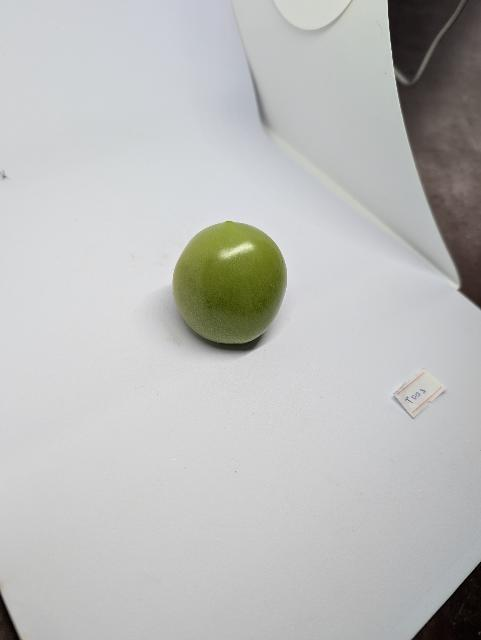green: (171, 220, 290, 347)
